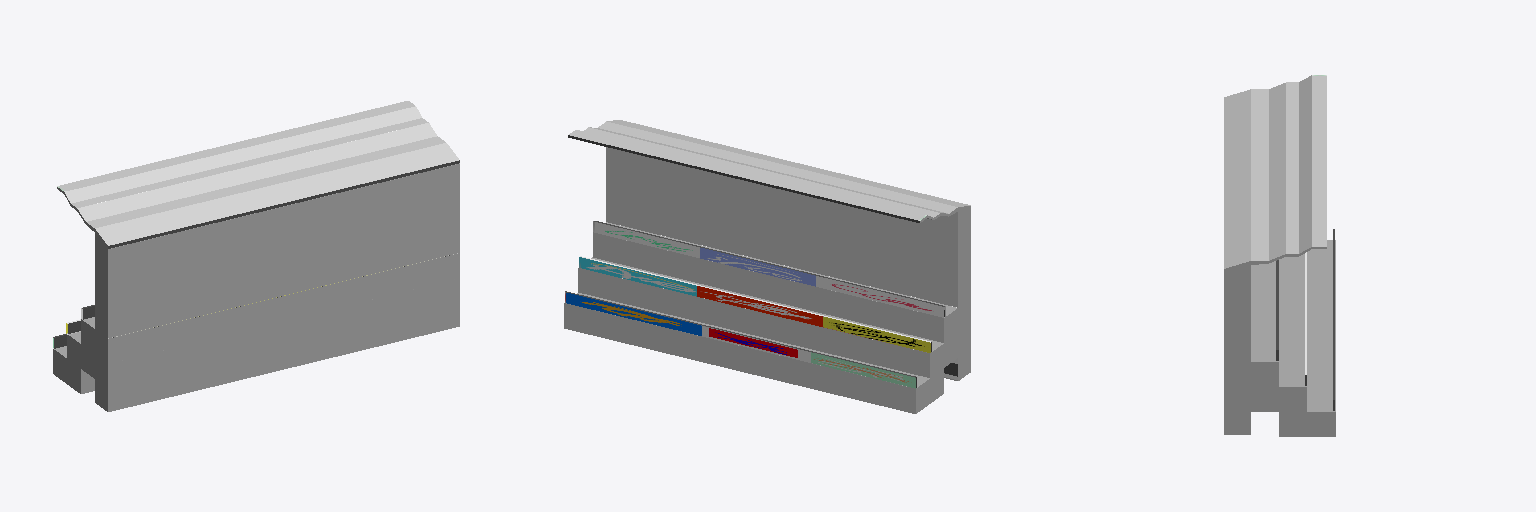
3 views of the same model, side by side, from view 1: azimuth 30°, elevation 25°; view 2: azimuth 150°, elevation 25°; view 3: azimuth 270°, elevation 25° (orthographic).
Parts seen in each view (by area): view 1: 立方体; view 2: 立方体; view 3: 立方体.
Part boxes in pixels (x1,y1,x2,y2): 立方体: (53,101,459,411); 立方体: (564,120,970,413); 立方体: (1224,75,1335,436).
Size of the model in its own units: 14.58 by 7.53 by 3.98.
Materials: 1 (1 with a texture image).